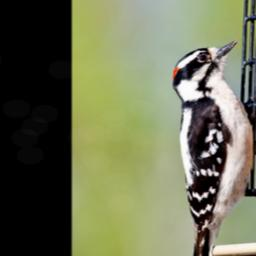Woodpecker: (169, 39, 256, 256)
